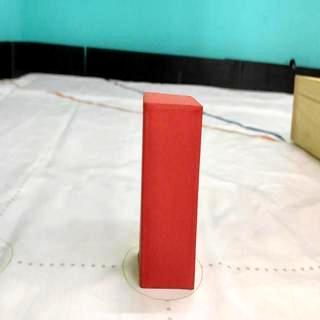redbox: (138, 90, 204, 289)
